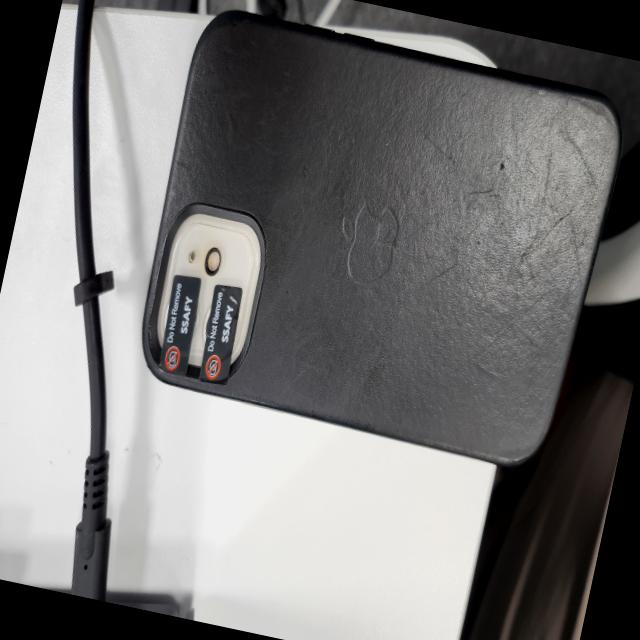phone: (122, 5, 634, 474)
sticker: (192, 280, 247, 390), (152, 272, 205, 379)
